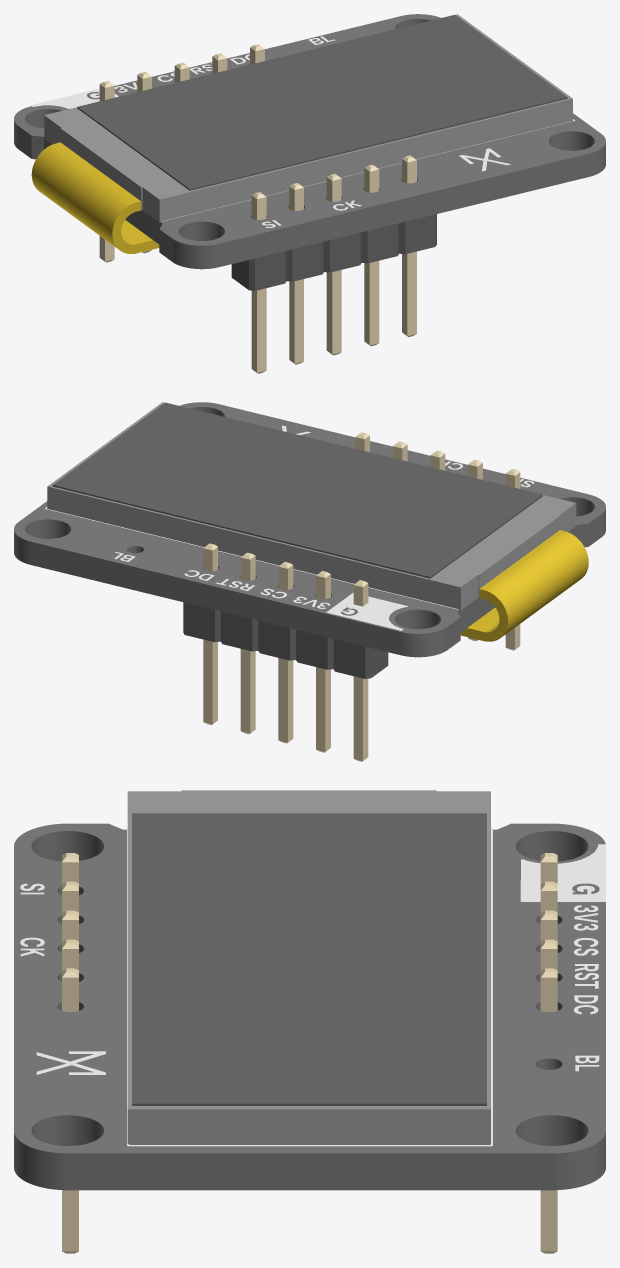
The picture shows the model from 3 angles, top to bottom: view 1: azimuth 30°, elevation 25°; view 2: azimuth 150°, elevation 25°; view 3: azimuth 270°, elevation 25°; orthographic projection. The views are drawn at different scales.
Parts seen in each view (by area): view 1: Node4, Node11, Node6, Node9, Node8, Node5, Node7; view 2: Node4, Node11, Node6, Node9, Node8, Node5, Node7; view 3: Node4, Node11, Node6, Node9, Node7.
Part boxes in pixels (x1,y1,x2,y2): Node4: (77,14,567,190); Node11: (14,14,605,269); Node6: (44,14,572,222); Node9: (99,44,416,373); Node8: (231,214,436,290); Node5: (31,142,159,253); Node7: (31,36,574,227); Node4: (52,402,542,578); Node11: (14,402,605,657); Node6: (47,402,576,610); Node9: (203,432,520,761); Node8: (183,602,388,678); Node5: (460,530,588,641); Node7: (44,425,534,630); Node4: (132,813,486,1105); Node11: (14,823,605,1190); Node6: (127,790,490,1144); Node9: (62,853,557,1253); Node7: (20,828,605,1146).
Size of the model in its own units: 30.6 by 11.68 by 22.
